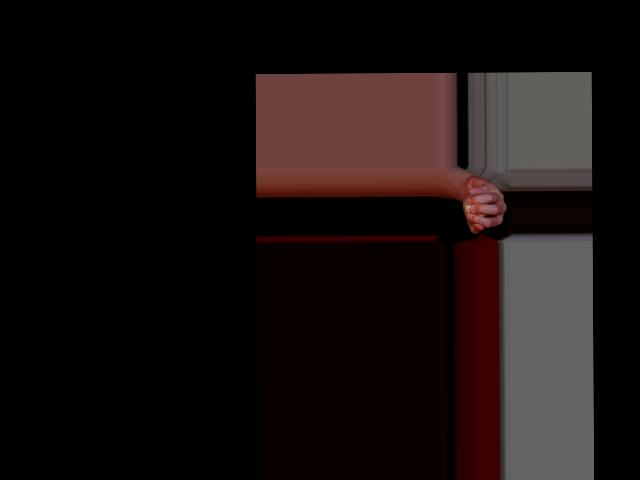egg: (464, 195, 488, 220)
